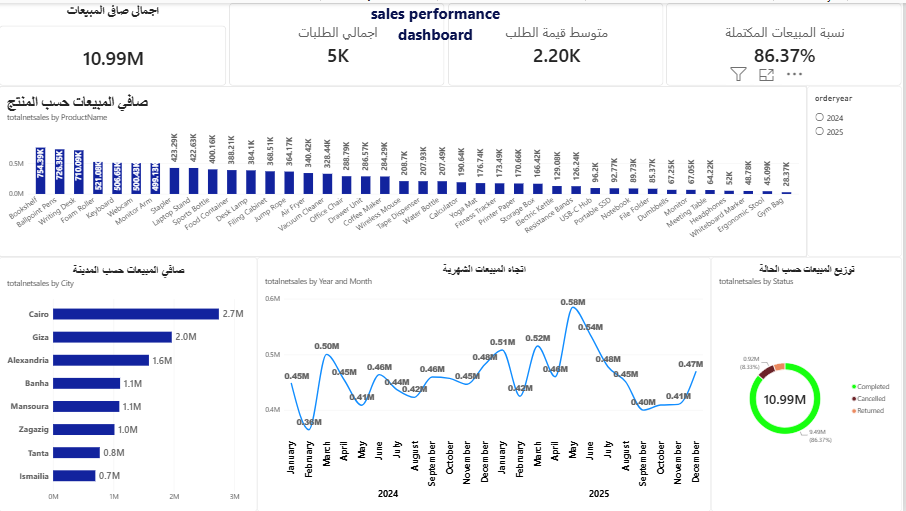

Layout of this report page (visuals, bound fields, positions):
{"tool":"powerbi","page":{"name":"Page 1","canvas":[1920,1080],"ordinal":0},"visuals":[{"type":"cardVisual","title":"اجمالي صافي المبيعات","fields":{"Data":["Sales.totalnetsales"]},"box":[0,0,483.8,176.4],"z":0},{"type":"cardVisual","fields":{"Data":["Sales.totalorders"]},"box":[489.7,0,458.6,176.4],"z":1},{"type":"cardVisual","fields":{"Data":["Sales.averageordervalue"]},"box":[954.1,0,458.6,176.4],"z":2},{"type":"cardVisual","fields":{"Data":["Sales.completedsales%"]},"box":[1418.6,0,501,176],"z":3},{"type":"lineChart","title":"اتجاه المبيعات الشهرية","fields":{"Category":["Calender.Date.Variation.Date Hierarchy.Year","Calender.Date.Variation.Date Hierarchy.Month"],"Y":["Sales.totalnetsales"]},"box":[549.3,539.2,965,541.7],"z":4},{"type":"clusteredBarChart","title":"صافي المبيعات حسب المدينة","fields":{"Category":["cities.City"],"Y":["Sales.totalnetsales"]},"box":[0,539.2,549.3,541.7],"z":5},{"type":"clusteredColumnChart","title":"صافي المبيعات حسب المنتج","fields":{"Category":["Products.ProductName"],"Y":["Sales.totalnetsales"]},"box":[0,176.5,1717.8,363.5],"z":6},{"type":"donutChart","title":"توزيع المبيعات حسب الحالة","fields":{"Category":["Sales.Status"],"Y":["Sales.totalnetsales"]},"box":[1514.3,539.2,405.7,541.7],"z":7},{"type":"textbox","box":[718.6,0,418.8,210.5],"z":8},{"type":"listSlicer","fields":{"Values":["Sales.orderyear"]},"box":[1718,176,202,363],"z":9}]}

Visuals, with their boxes in screenshot pixels (x1, y1, x2, y2), scaled from the page's 1920x1080 canvas onto the 906x511 screenshot:
"اجمالي صافي المبيعات" cardVisual: 0, 0, 228, 83
cardVisual - Sales.totalorders: 231, 0, 447, 83
cardVisual - Sales.averageordervalue: 450, 0, 667, 83
cardVisual - Sales.completedsales%: 669, 0, 905, 83
"اتجاه المبيعات الشهرية" lineChart: 259, 255, 715, 510
"صافي المبيعات حسب المدينة" clusteredBarChart: 0, 255, 259, 510
"صافي المبيعات حسب المنتج" clusteredColumnChart: 0, 84, 811, 256
"توزيع المبيعات حسب الحالة" donutChart: 715, 255, 905, 510
textbox: 339, 0, 537, 100
listSlicer - Sales.orderyear: 811, 83, 905, 255
